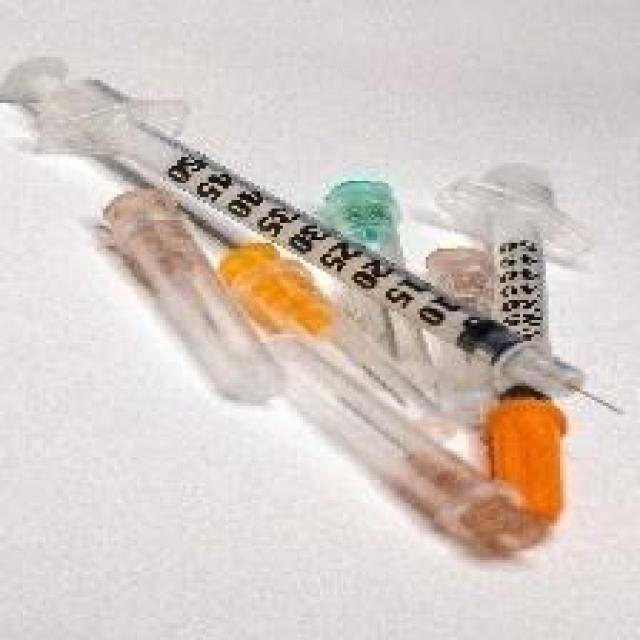syringe: (33, 21, 636, 592)
